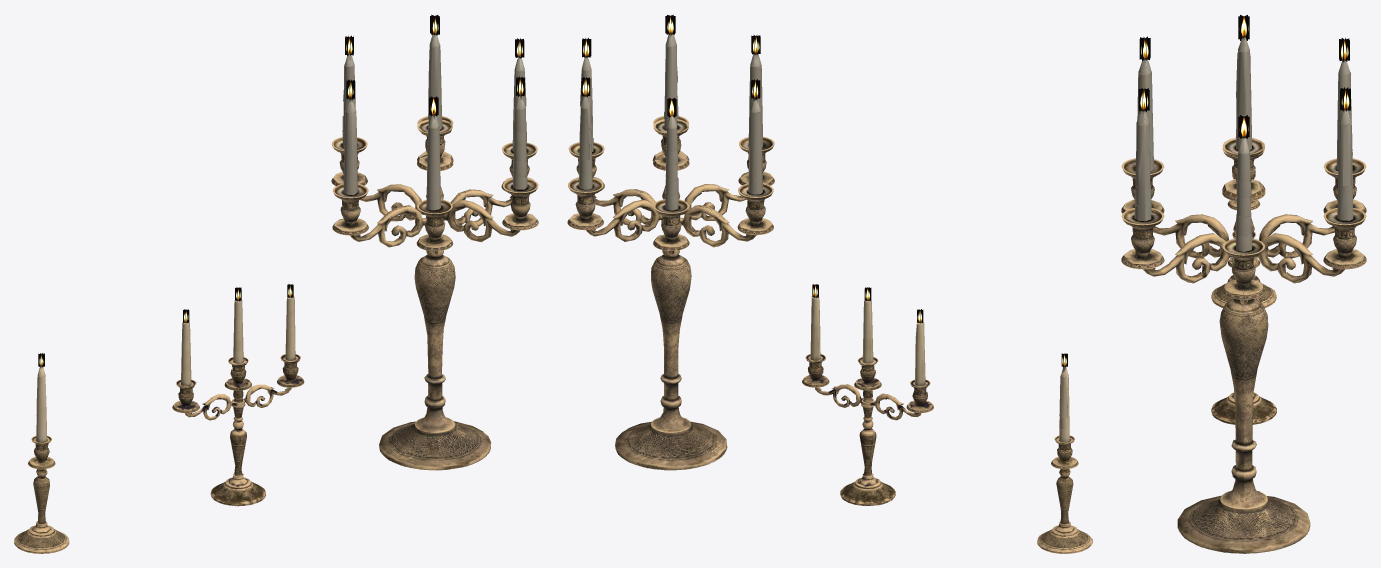
File: ph_brass_candleholders.glb
The picture shows the model from 3 angles, left to right: view 1: azimuth 30°, elevation 25°; view 2: azimuth 150°, elevation 25°; view 3: azimuth 270°, elevation 25°; orthographic projection. The views are drawn at different scales.
Visible parts, largest first — view 1: brass_candleholder_03; view 2: brass_candleholder_03; view 3: brass_candleholder_03.
Boxes of the visible parts, x1,y1,x2,y2 form: brass_candleholder_03: (14,14,538,553); brass_candleholder_03: (567,14,1092,553); brass_candleholder_03: (1121,15,1366,553).
Bounding box in the file's own units: 1.05 × 0.8353 × 0.3647.
5 materials, 5 textured.
